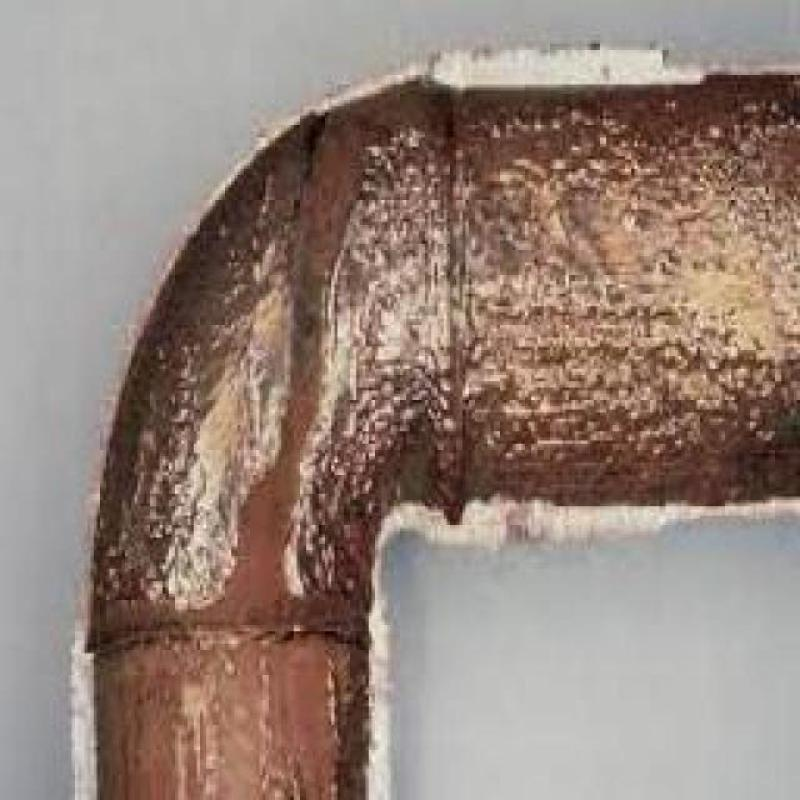corrosion: (373, 97, 800, 484), (148, 292, 372, 800)
